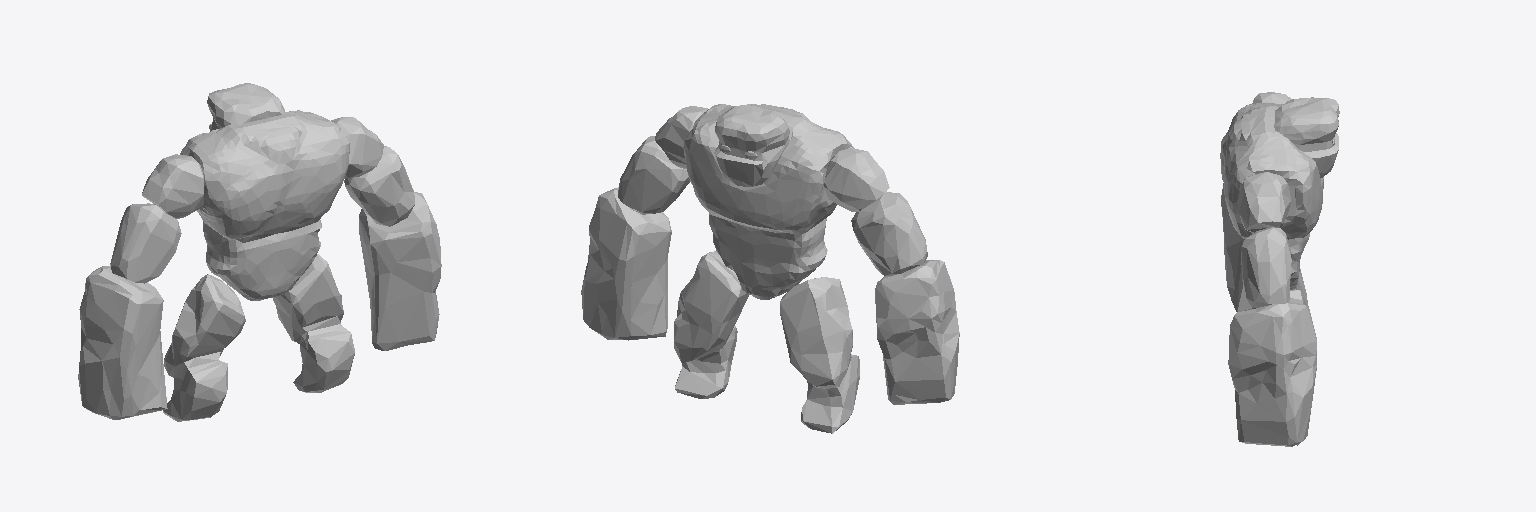
The model's file is ice_man.obj.
The picture shows the model from 3 angles: view 1: azimuth 30°, elevation 25°; view 2: azimuth 150°, elevation 25°; view 3: azimuth 270°, elevation 25°; orthographic projection.
Visible parts, largest first — view 1: hands&leg.001_ice.003, torso.001_ice.005, head.001_ice.004; view 2: hands&leg.001_ice.003, torso.001_ice.005, head.001_ice.004; view 3: hands&leg.001_ice.003, torso.001_ice.005, head.001_ice.004.
Boxes of the visible parts, x1=… form: hands&leg.001_ice.003: x1=78, y1=117, x2=441, y2=421; torso.001_ice.005: x1=180, y1=110, x2=349, y2=300; head.001_ice.004: x1=207, y1=83, x2=284, y2=131; hands&leg.001_ice.003: x1=581, y1=106, x2=959, y2=433; torso.001_ice.005: x1=683, y1=104, x2=853, y2=299; head.001_ice.004: x1=714, y1=105, x2=789, y2=186; hands&leg.001_ice.003: x1=1221, y1=92, x2=1316, y2=446; torso.001_ice.005: x1=1220, y1=103, x2=1323, y2=289; head.001_ice.004: x1=1274, y1=97, x2=1339, y2=177.
Bounding box in the file's own units: 11.9 × 9.58 × 3.42.